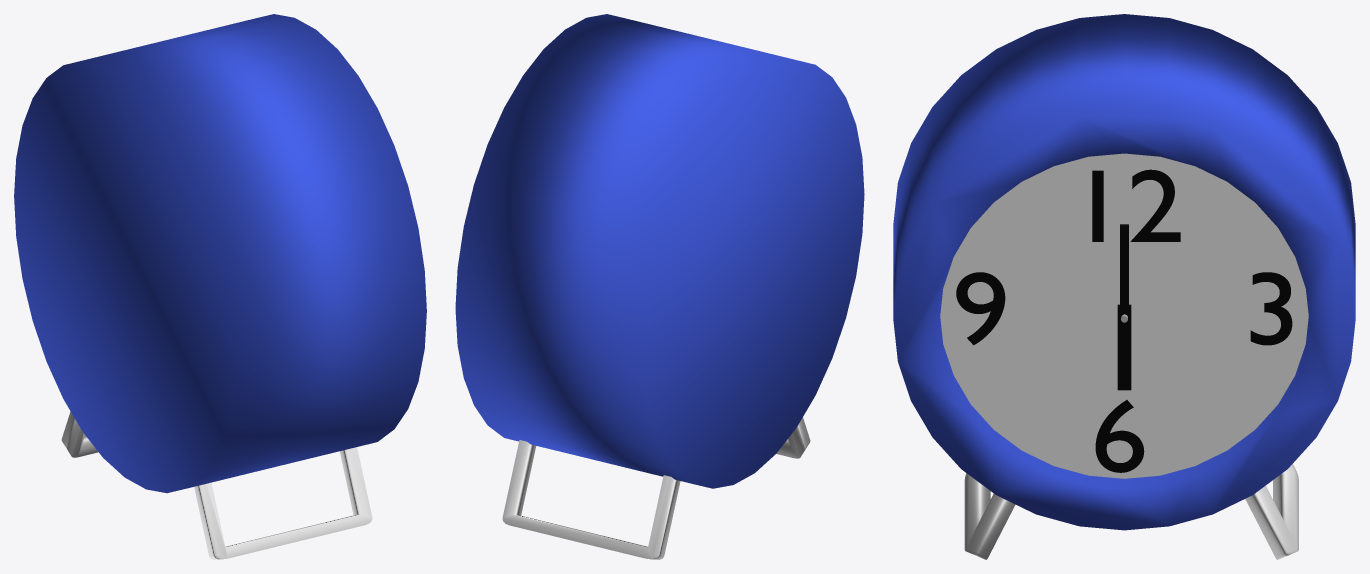
The model's file is bodyNeedle.gltf.
The picture shows the model from 3 angles, left to right: view 1: azimuth 30°, elevation 25°; view 2: azimuth 150°, elevation 25°; view 3: azimuth 270°, elevation 25°; orthographic projection. The views are drawn at different scales.
Parts seen in each view (by area): view 1: 円柱, 立方体.001, 立方体; view 2: 円柱, 立方体, 立方体.001; view 3: 円柱, 円柱.001, 立方体, 立方体.001, テキスト, テキスト.003, テキスト.002, テキスト.001, 立方体.002, 立方体.003.
Part boxes in pixels (<box>): 円柱: <box>14,14,426,493</box>; 立方体.001: <box>194,447,372,559</box>; 立方体: <box>61,411,98,457</box>; 円柱: <box>455,14,864,488</box>; 立方体: <box>502,440,680,559</box>; 立方体.001: <box>776,417,810,458</box>; 円柱: <box>893,14,1355,530</box>; 円柱.001: <box>940,153,1308,478</box>; 立方体: <box>1245,464,1298,559</box>; 立方体.001: <box>964,473,1015,559</box>; テキスト: <box>1092,169,1180,241</box>; テキスト.003: <box>956,272,1005,345</box>; テキスト.002: <box>1095,400,1144,472</box>; テキスト.001: <box>1250,272,1292,345</box>; 立方体.002: <box>1120,224,1128,351</box>; 立方体.003: <box>1117,304,1131,390</box>.
Size of the model in its own units: 4 by 8.8 by 8.
